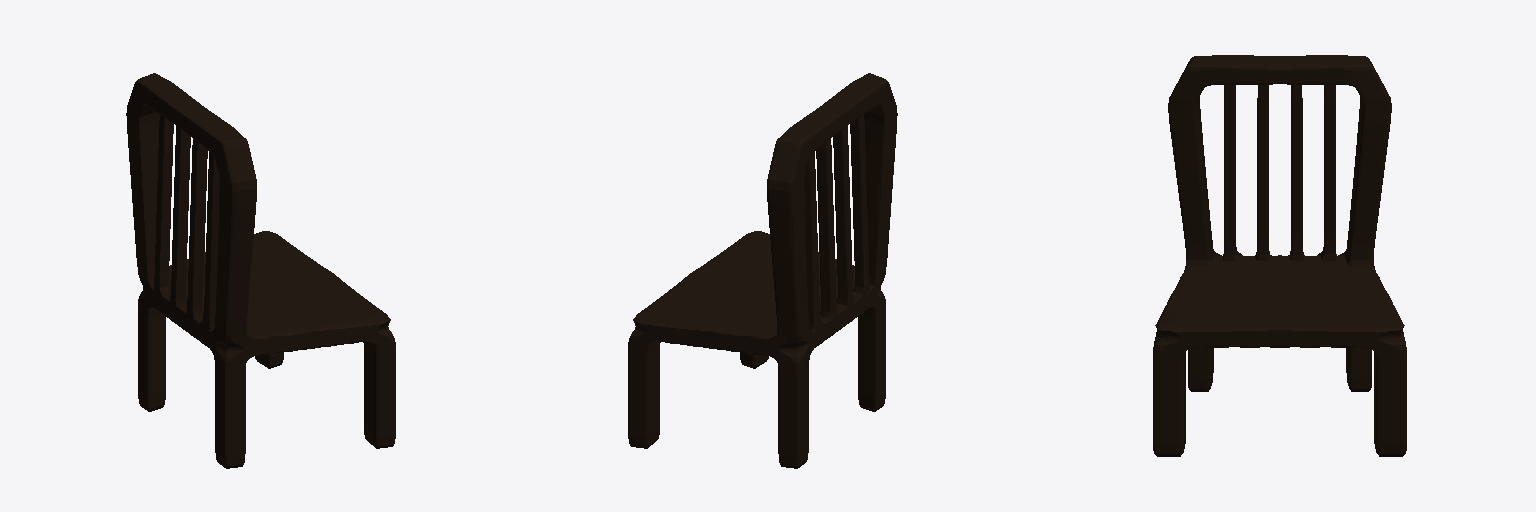
Rendered from dining_chair.obj.
3 views of the same model, side by side, from view 1: azimuth 30°, elevation 25°; view 2: azimuth 150°, elevation 25°; view 3: azimuth 270°, elevation 25° (orthographic).
Parts seen in each view (by area): view 1: dining_chair; view 2: dining_chair; view 3: dining_chair.
Boxes of the visible parts, x1=… form: dining_chair: x1=126, y1=73, x2=395, y2=468; dining_chair: x1=628, y1=73, x2=897, y2=468; dining_chair: x1=1153, y1=55, x2=1406, y2=456.
Size of the model in its own units: 4.49 by 9.08 by 6.39.